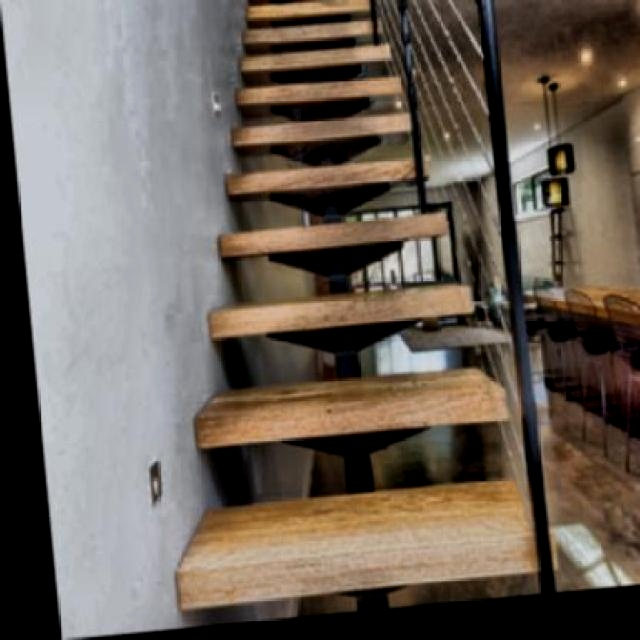stair: (125, 0, 529, 620)
